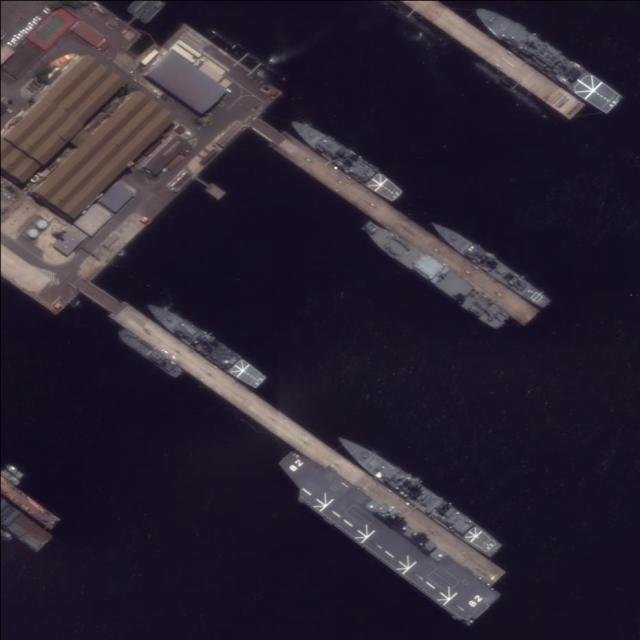Auxiliary Ships: (359, 217, 506, 333)
Destroyer: (273, 441, 495, 630), (330, 427, 505, 561), (425, 214, 554, 313), (142, 296, 269, 394), (283, 114, 405, 207)
Dock: (75, 281, 507, 584), (250, 116, 539, 330)
Landing: (470, 1, 623, 118)
Submarine: (473, 61, 548, 117), (210, 28, 276, 74)
